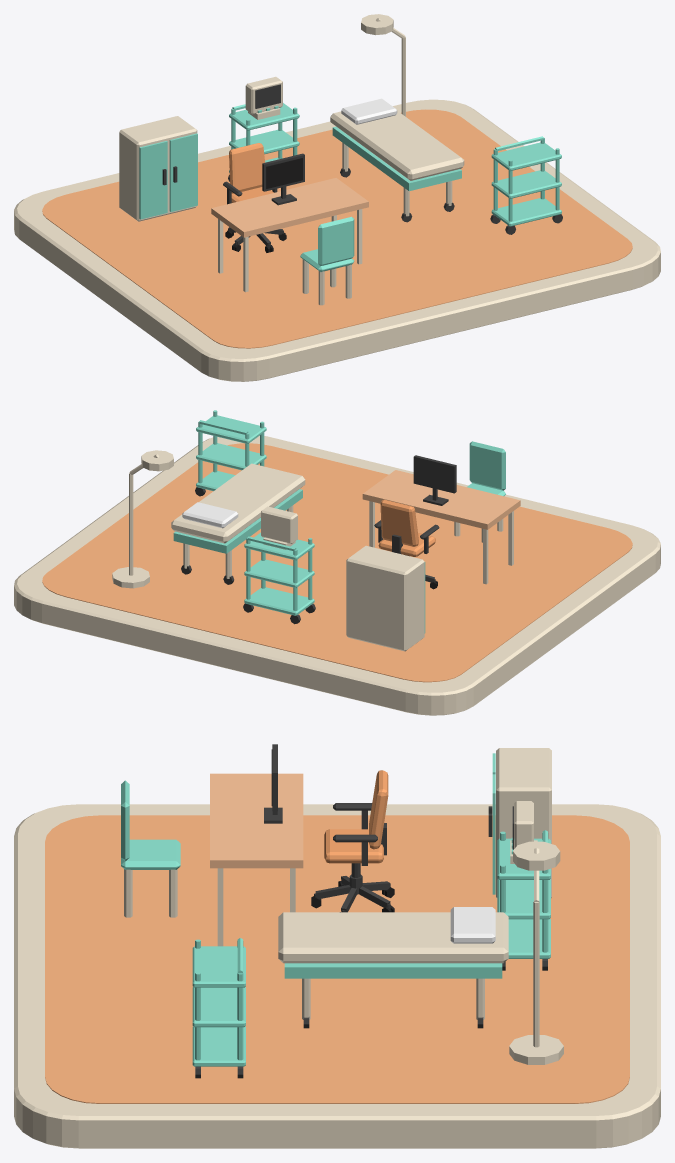
3 views of the same model, one above another, from view 1: azimuth 30°, elevation 25°; view 2: azimuth 150°, elevation 25°; view 3: azimuth 270°, elevation 25° (orthographic). The views are drawn at different scales.
Parts seen in each view (by area): view 1: COM-02 Floor Surface, COM-01 Rounded Base Direct, Top, Mattress, Equipment case, COM-04_Chair_blender_direct, Door, Door.001, Backrest, Frame, Base, Tray.002 (+7 smaller); view 2: COM-02 Floor Surface, COM-01 Rounded Base Direct, Equipment case, Top, Mattress, COM-04_Chair_blender_direct, Backrest, Frame, Base, Housing, Tray.003, Tray.004 (+8 smaller); view 3: COM-02 Floor Surface, COM-01 Rounded Base Direct, Mattress, Top, COM-04_Chair_blender_direct, Equipment case, Base, Tray.002, Tray.001, Tray, Pillow, Seat (+9 smaller).
Boxes of the visible parts, x1,y1,x2,y2 form: COM-02 Floor Surface: (42,109,632,348); COM-01 Rounded Base Direct: (14,99,660,381); Top: (211,178,368,292); Mattress: (330,111,464,180); Equipment case: (119,116,197,221); COM-04_Chair_blender_direct: (223,143,286,252); Door: (139,141,167,219); Door.001: (169,133,197,211); Backrest: (318,216,354,265); Frame: (262,153,304,205); Base: (332,126,461,191); Tray.002: (491,142,561,171); COM-02 Floor Surface: (42,443,632,682); COM-01 Rounded Base Direct: (14,435,660,715); Equipment case: (346,545,424,651); Top: (362,470,520,584); Mattress: (171,463,305,543); COM-04_Chair_blender_direct: (374,499,439,589); Backrest: (469,441,505,490); Frame: (413,455,456,505); Base: (173,489,302,553); Housing: (261,506,297,543); Tray.003: (244,587,314,615); Tray.004: (244,559,314,587); COM-02 Floor Surface: (45,815,629,1103); COM-01 Rounded Base Direct: (14,804,660,1148); Mattress: (278,912,508,963); Top: (210,773,303,946); COM-04_Chair_blender_direct: (311,770,394,912); Equipment case: (496,748,551,897); Base: (284,963,502,978); Tray.002: (192,946,245,987); Tray.001: (192,987,245,1027); Tray: (192,1026,245,1066); Pillow: (450,907,495,943); Seat: (121,839,180,869).
Bounding box in the file's own units: 6 × 1.96 × 5.2.
Materials: 1 (1 with a texture image).
